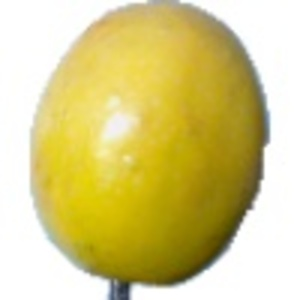maracujá: (29, 1, 272, 300)
